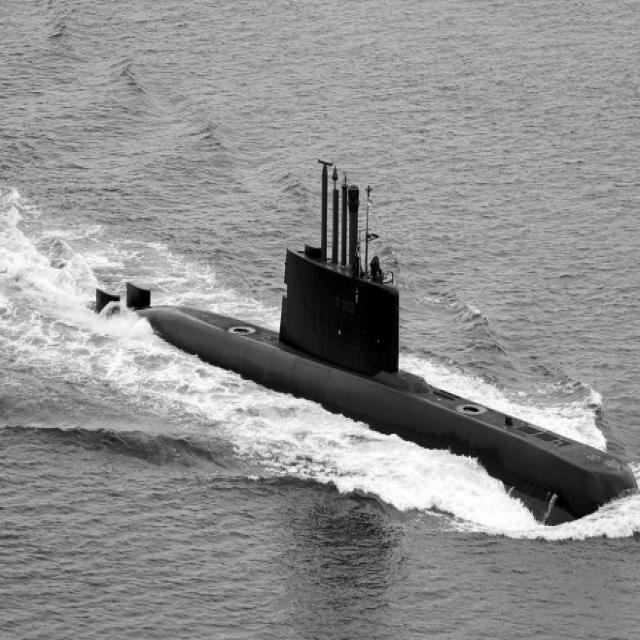submarine: (94, 156, 640, 524)
